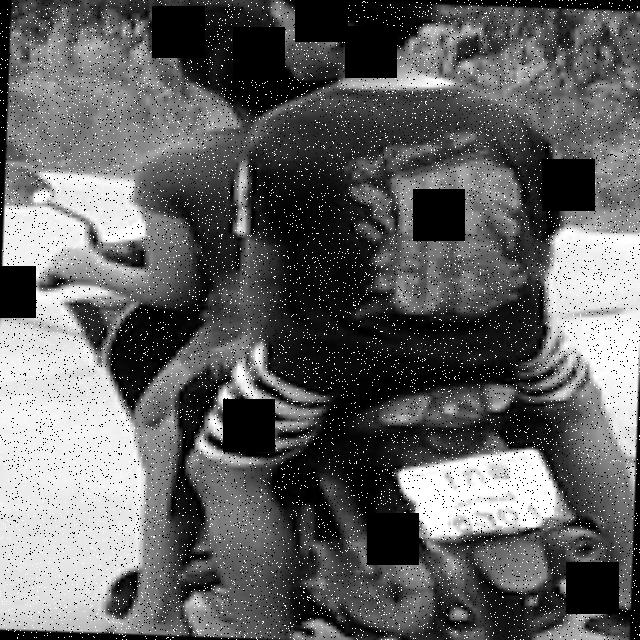letters: (502, 500, 525, 536), (461, 461, 484, 491), (441, 464, 461, 494), (450, 511, 473, 536), (488, 459, 509, 486), (524, 504, 543, 528), (479, 508, 495, 529)
license-plate: (400, 448, 560, 538)
province: (448, 492, 528, 508)
